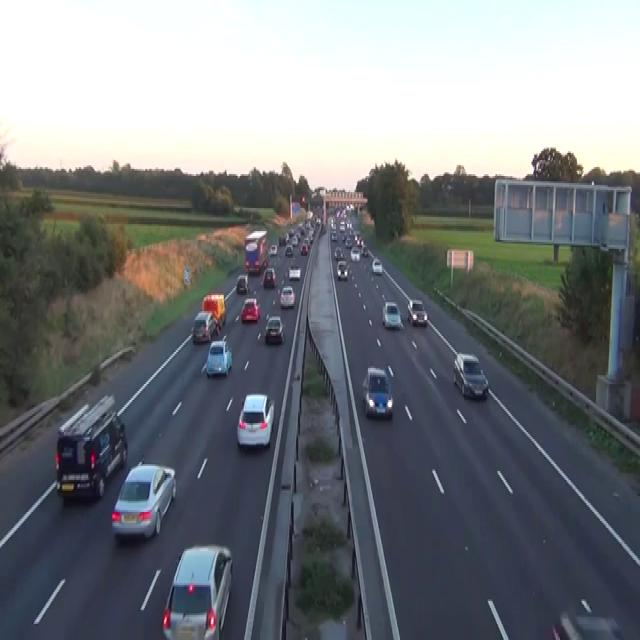Car: (55, 393, 127, 501), (161, 544, 232, 638), (111, 458, 176, 540), (330, 203, 367, 281), (551, 598, 622, 638), (236, 393, 274, 448), (452, 352, 489, 398), (362, 366, 393, 418), (204, 336, 232, 377), (57, 402, 89, 436), (191, 309, 216, 343), (382, 300, 402, 329), (264, 315, 284, 343), (407, 299, 427, 325), (244, 242, 260, 274), (240, 297, 260, 322), (279, 284, 294, 308), (262, 267, 276, 288), (236, 274, 249, 293), (336, 260, 347, 279), (288, 263, 301, 279), (371, 258, 382, 274), (350, 246, 360, 262), (334, 246, 344, 260), (278, 231, 287, 245), (354, 233, 363, 245), (269, 244, 277, 256), (285, 244, 293, 256), (300, 242, 308, 254), (345, 237, 353, 247), (346, 202, 354, 212), (330, 229, 337, 240), (307, 231, 314, 242), (290, 237, 297, 246), (339, 221, 345, 231), (306, 210, 313, 218), (321, 222, 326, 233), (362, 247, 368, 256), (288, 228, 294, 236), (346, 220, 352, 228), (315, 217, 321, 224), (342, 233, 346, 243), (301, 195, 305, 202)
Truck: (244, 229, 268, 274), (202, 291, 226, 329)
